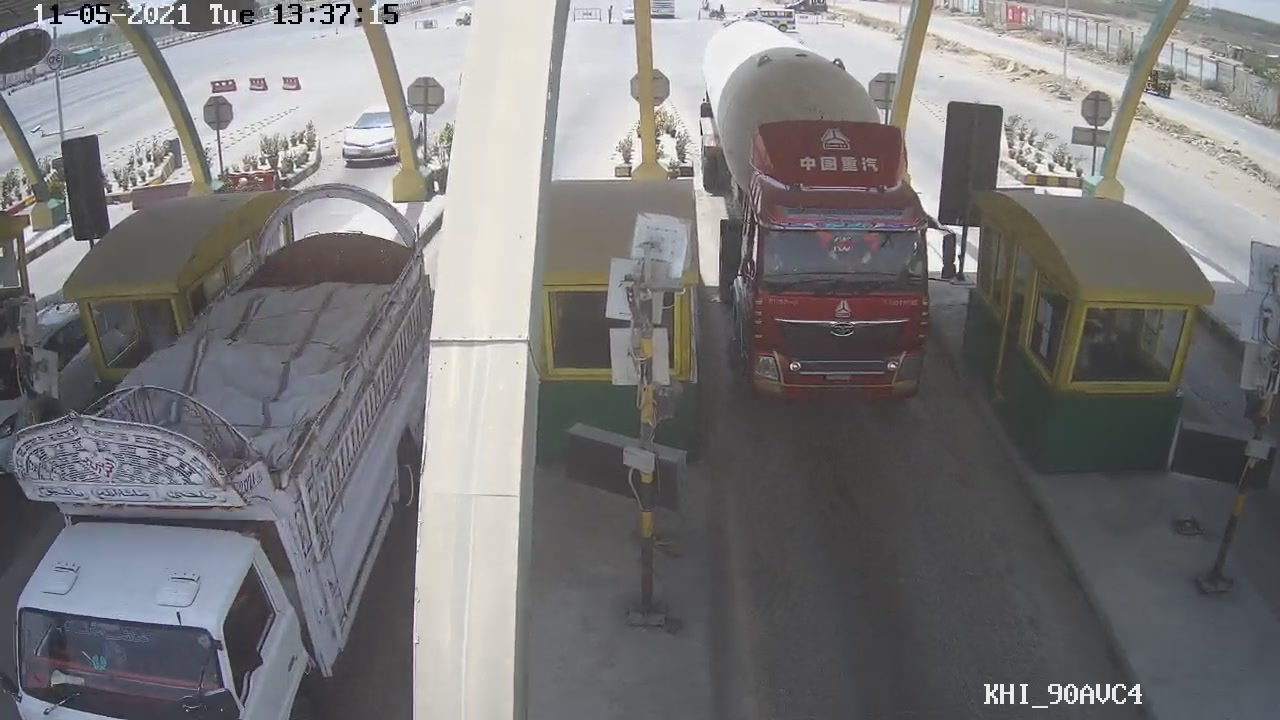F6: (701, 28, 960, 398)
